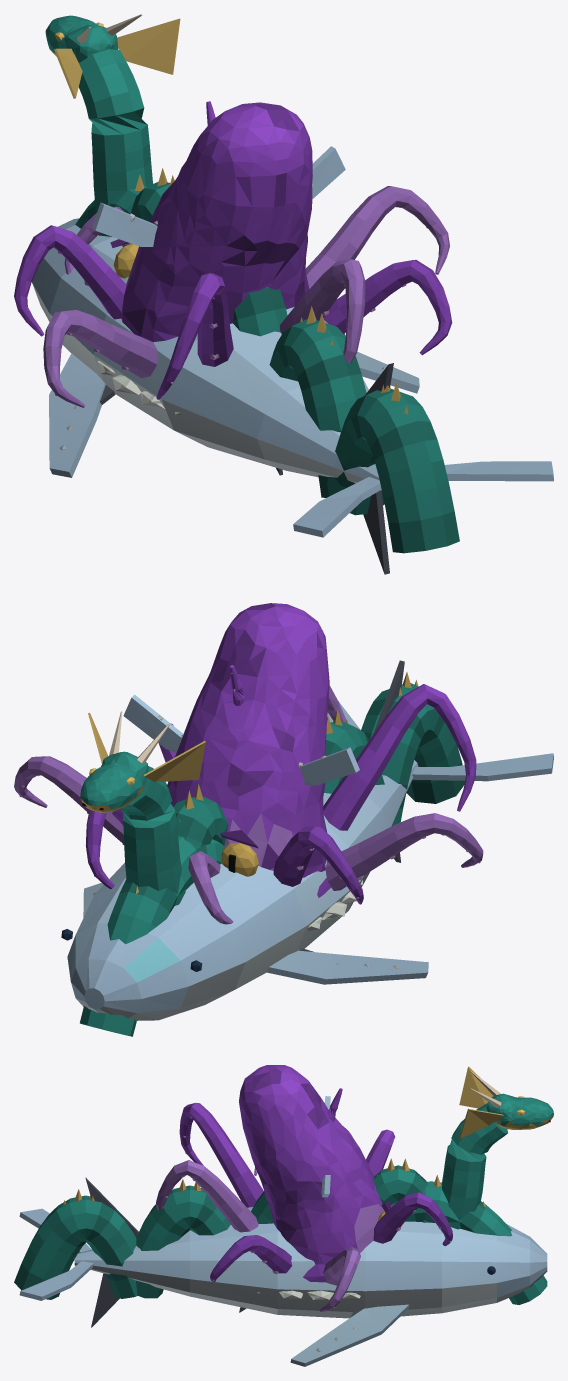
The model's file is boss.fbx.
3 views of the same model, one above another, from view 1: azimuth 30°, elevation 25°; view 2: azimuth 150°, elevation 25°; view 3: azimuth 270°, elevation 25° (orthographic). The views are drawn at different scales.
Visible parts, largest first — view 1: boss_kraken, boss_serpent, boss_ghostwhale, slam_ghostwhale, boss_megalodon, slam_serpent; view 2: boss_kraken, boss_ghostwhale, boss_serpent, slam_serpent, slam_ghostwhale, boss_megalodon; view 3: boss_kraken, boss_ghostwhale, boss_serpent, slam_serpent, boss_megalodon.
Part boxes in pixels (bbox=[...]): boss_kraken: bbox=[14, 102, 452, 407]; boss_serpent: bbox=[45, 14, 459, 553]; boss_ghostwhale: bbox=[32, 218, 553, 537]; slam_ghostwhale: bbox=[92, 146, 345, 246]; boss_megalodon: bbox=[100, 363, 393, 574]; slam_serpent: bbox=[75, 174, 146, 228]; boss_kraken: bbox=[14, 603, 483, 924]; boss_ghostwhale: bbox=[61, 701, 553, 1020]; boss_serpent: bbox=[80, 672, 464, 905]; slam_serpent: bbox=[80, 836, 224, 1036]; slam_ghostwhale: bbox=[123, 694, 359, 785]; boss_megalodon: bbox=[300, 660, 404, 951]; boss_kraken: bbox=[156, 1065, 452, 1311]; boss_ghostwhale: bbox=[19, 1207, 547, 1366]; boss_serpent: bbox=[14, 1066, 553, 1299]; slam_serpent: bbox=[391, 1175, 547, 1304]; boss_megalodon: bbox=[85, 1177, 361, 1327].
Bounding box in the file's own units: 33.17 × 26.12 × 49.24.
